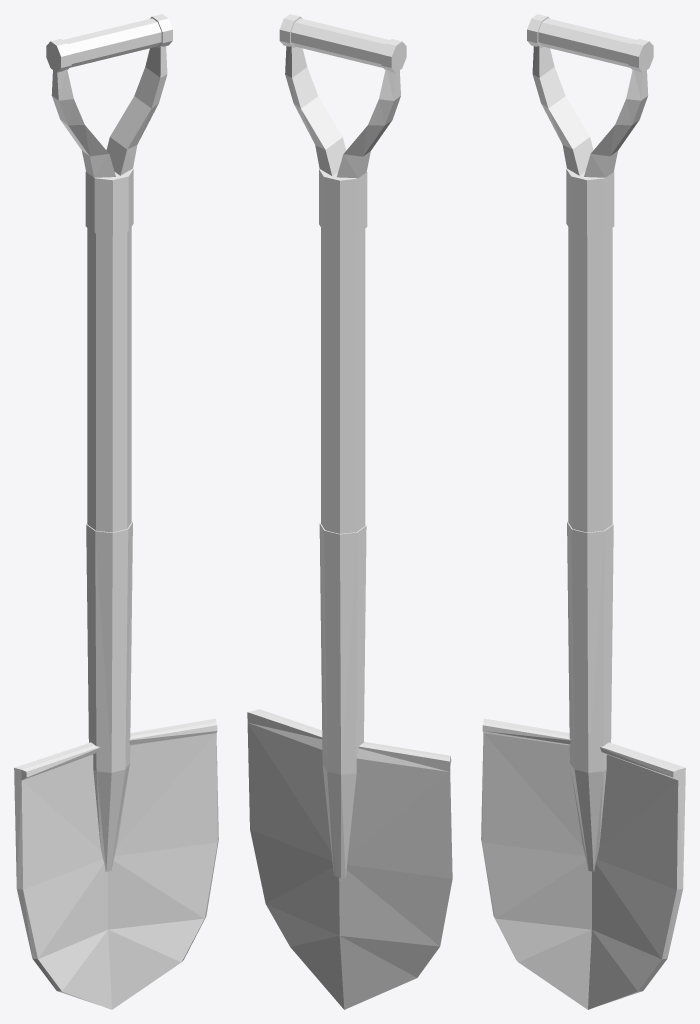
The model's file is Tool_Shovel_01.glb.
3 renders of one model, left to right at view 1: azimuth 30°, elevation 25°; view 2: azimuth 150°, elevation 25°; view 3: azimuth 330°, elevation 25°, orthographic.
Visible parts, largest first — view 1: Tool_Shovel_01; view 2: Tool_Shovel_01; view 3: Tool_Shovel_01.
Boxes of the visible parts, left/top/right/bottom form: Tool_Shovel_01: left=14, top=14, right=218, bottom=1009; Tool_Shovel_01: left=247, top=14, right=452, bottom=1009; Tool_Shovel_01: left=481, top=14, right=685, bottom=1009.
Bounding box in the file's own units: 0.2228 × 1.03 × 0.0454.
Materials: 1 (1 with a texture image).
